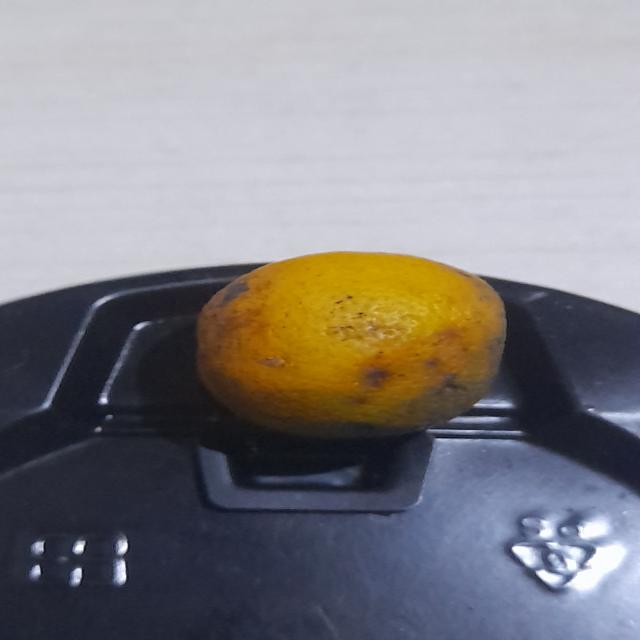black spot: (186, 257, 514, 434)
